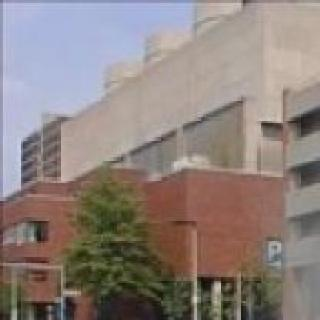smoke: (261, 76, 320, 320)
